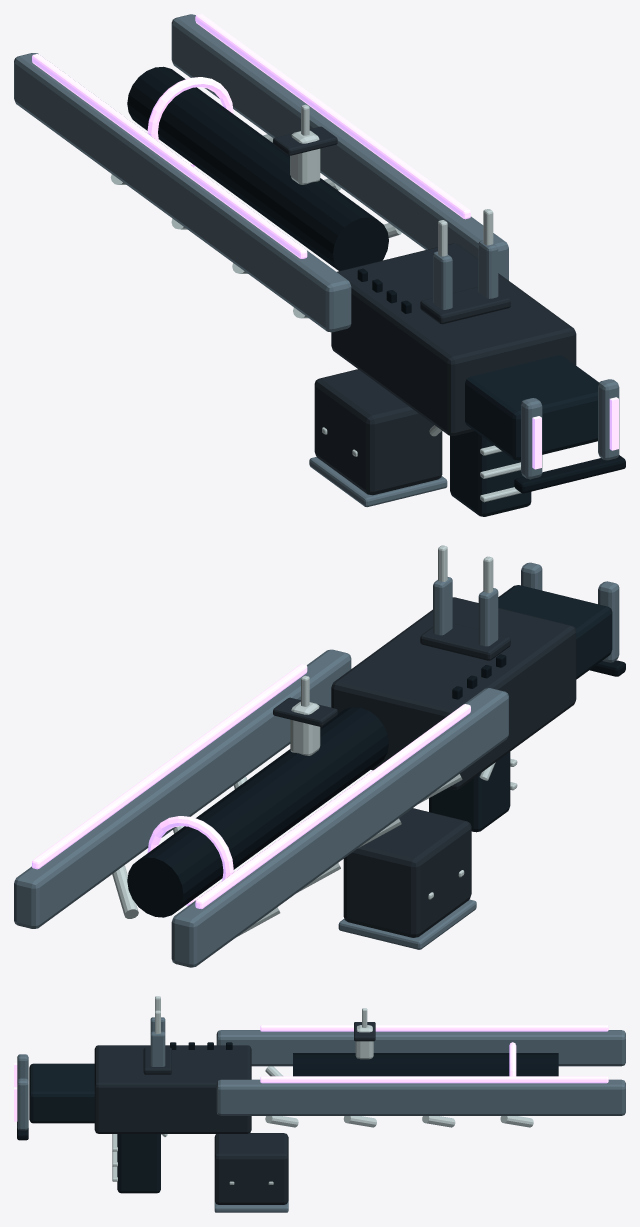
Rendered from weapon-6.glb.
3 views of the same model, one above another, from view 1: azimuth 30°, elevation 25°; view 2: azimuth 150°, elevation 25°; view 3: azimuth 270°, elevation 25° (orthographic). The views are drawn at different scales.
Visible parts, largest first — view 1: body-light, body-dark, shock-emitter-cavity, body-rubber, feed-dark, body-glow, body-trim, body-cavity, feed-light; view 2: body-light, body-dark, shock-emitter-cavity, feed-dark, body-glow, body-rubber, body-trim, feed-light, body-cavity; view 3: body-light, body-dark, body-rubber, shock-emitter-cavity, body-glow, feed-dark, body-trim, feed-light, body-cavity.
Boxes of the visible parts, bbox=[...] form: body-light: bbox=[14, 14, 619, 479]; body-dark: bbox=[273, 126, 576, 435]; shock-emitter-cavity: bbox=[127, 66, 388, 270]; body-rubber: bbox=[450, 355, 598, 516]; feed-dark: bbox=[314, 369, 442, 495]; body-glow: bbox=[32, 14, 618, 469]; body-trim: bbox=[110, 104, 521, 502]; body-cavity: bbox=[357, 268, 625, 493]; feed-light: bbox=[309, 457, 447, 507]; body-light: bbox=[14, 562, 619, 967]; body-dark: bbox=[273, 597, 576, 789]; shock-emitter-cavity: bbox=[127, 707, 388, 917]; feed-dark: bbox=[343, 808, 471, 937]; body-glow: bbox=[32, 664, 470, 908]; body-rubber: bbox=[429, 585, 612, 832]; body-trim: bbox=[112, 545, 517, 936]; feed-light: bbox=[338, 899, 476, 949]; body-cavity: bbox=[452, 654, 625, 699]; body-light: bbox=[17, 1017, 625, 1130]; body-dark: bbox=[94, 1022, 375, 1133]; body-rubber: bbox=[29, 1063, 160, 1193]; shock-emitter-cavity: bbox=[293, 1053, 558, 1076]; body-glow: bbox=[14, 1025, 608, 1121]; feed-dark: bbox=[214, 1133, 288, 1204]; body-trim: bbox=[112, 996, 533, 1181]; feed-light: bbox=[214, 1201, 288, 1212]; body-cavity: bbox=[17, 1042, 232, 1140].
Bounding box in the file's own units: 0.313 × 0.5095 × 1.41.
